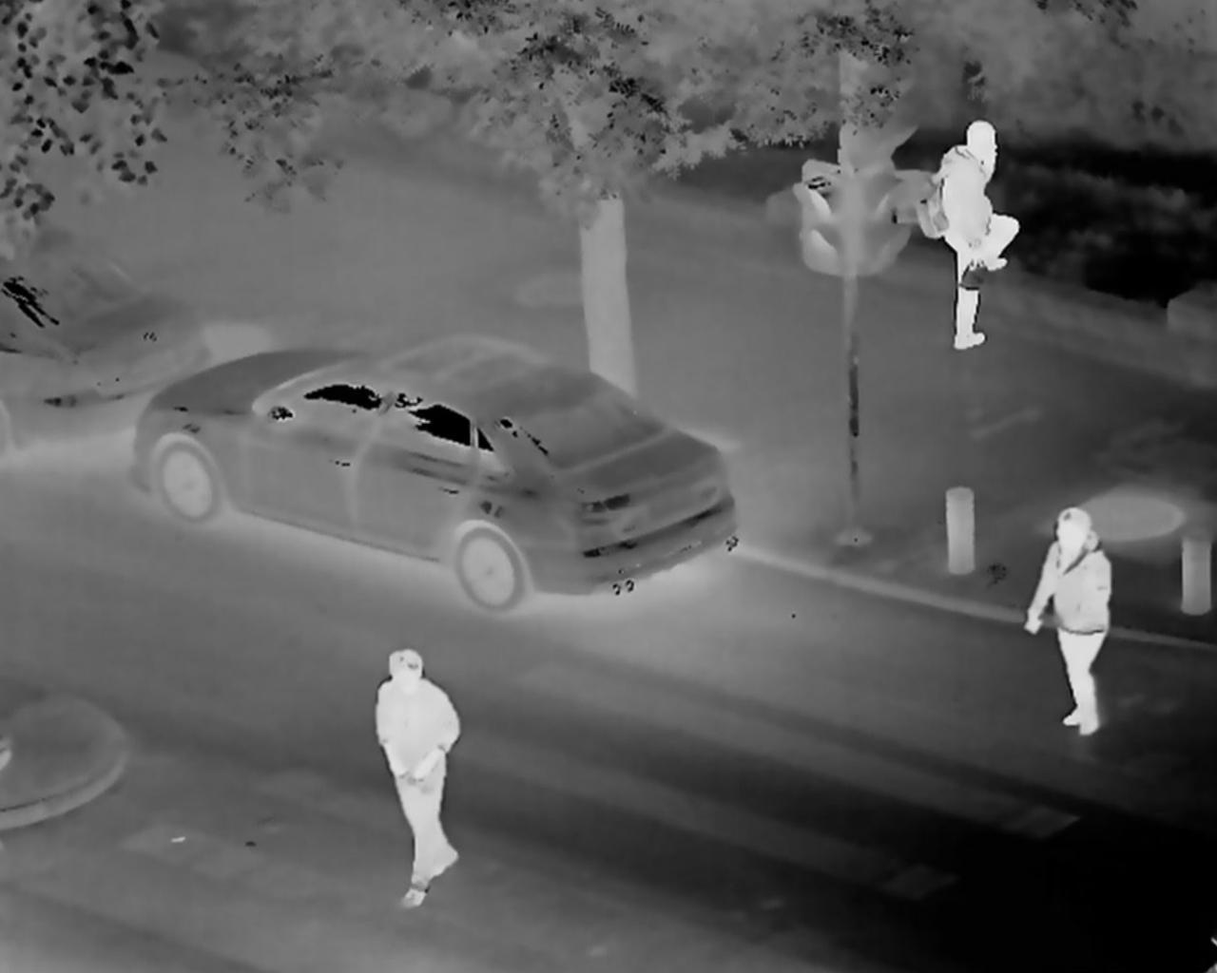person: (362, 642, 473, 910), (1020, 486, 1116, 750), (926, 119, 1026, 362)
